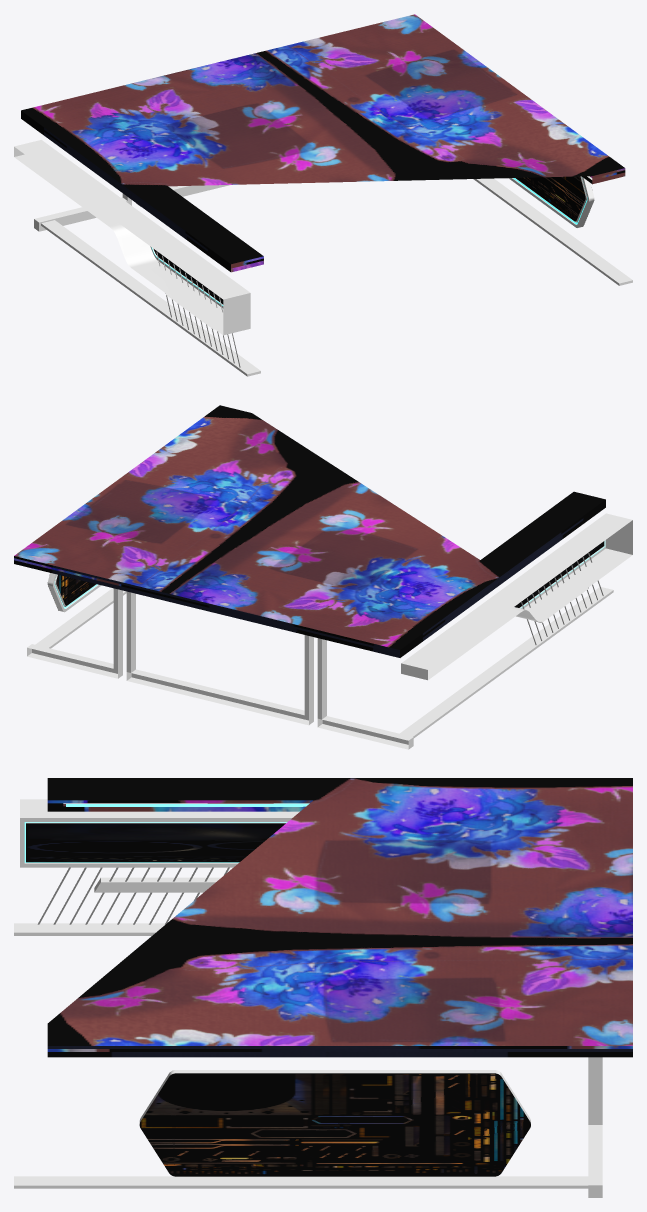
The model's file is Design.fbx.
3 views of the same model, one above another, from view 1: azimuth 30°, elevation 25°; view 2: azimuth 150°, elevation 25°; view 3: azimuth 270°, elevation 25° (orthographic). The views are drawn at different scales.
Visible parts, largest first — view 1: Blue, polySurface4, Screen; view 2: Blue, polySurface4, Screen; view 3: Blue, Screen, polySurface4, polySurface1, Emission_Cyan.
Part boxes in pixels (<box>): Blue: <box>21,14,625,272</box>; polySurface4: <box>14,140,632,376</box>; Screen: <box>516,176,589,221</box>; Blue: <box>14,405,605,657</box>; polySurface4: <box>27,513,632,749</box>; Screen: <box>48,575,95,610</box>; Blue: <box>47,778,632,1057</box>; Screen: <box>139,1073,530,1176</box>; polySurface4: <box>14,799,602,1197</box>; polySurface1: <box>26,823,285,862</box>; Emission_Cyan: <box>24,803,308,862</box>.
Size of the model in its own units: 1251 by 318 by 1163.
